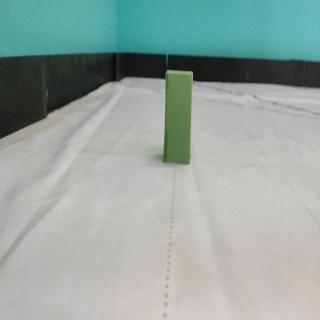greenbox: (161, 69, 194, 164)
